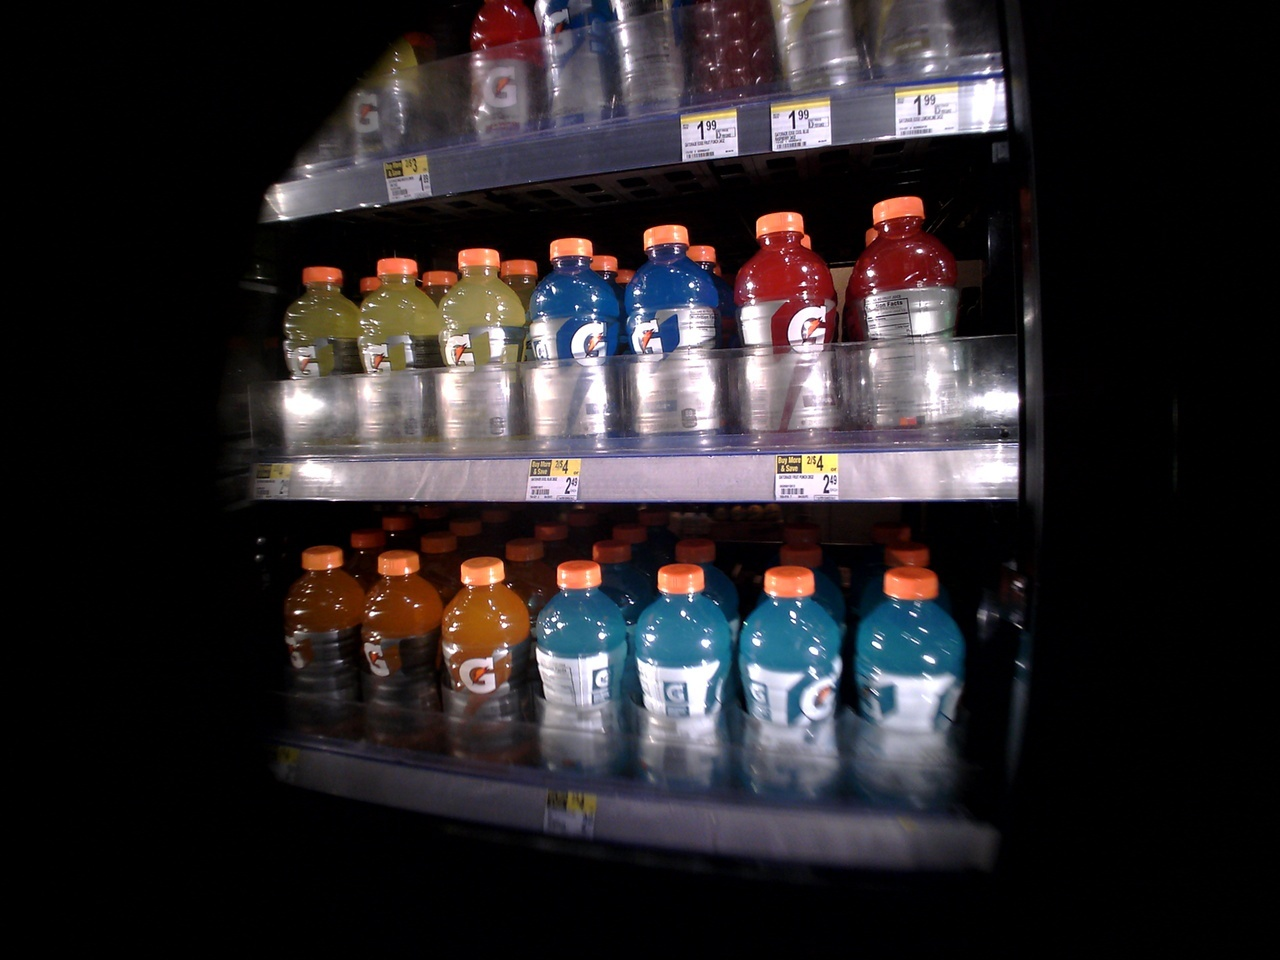shelf: (240, 497, 1030, 851), (218, 190, 1047, 490), (248, 0, 997, 164)
